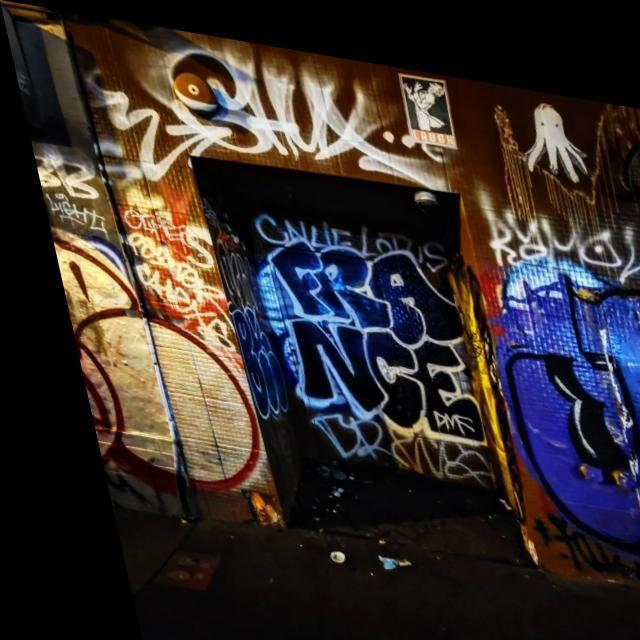-: (39, 5, 472, 198), (45, 254, 253, 516), (468, 252, 640, 566), (230, 226, 465, 430), (435, 165, 640, 278), (100, 188, 232, 362), (302, 404, 476, 478), (242, 206, 440, 264), (26, 148, 111, 242)
